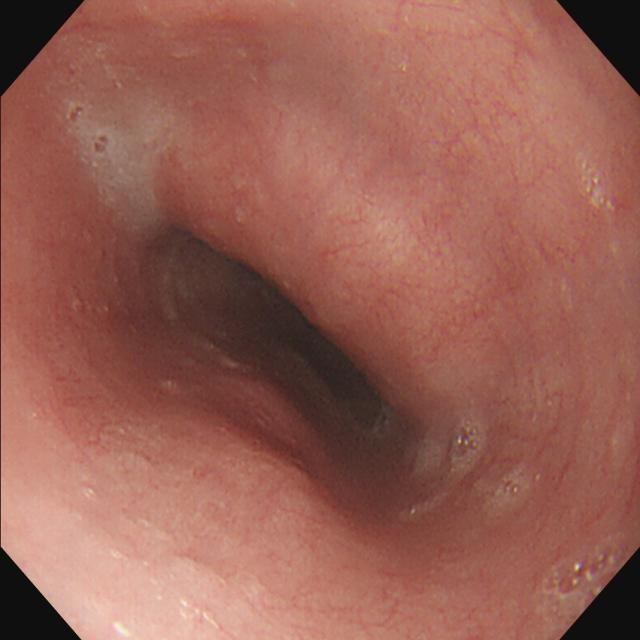E: (168, 225, 404, 450)
T: (546, 537, 623, 602), (448, 417, 487, 469)
